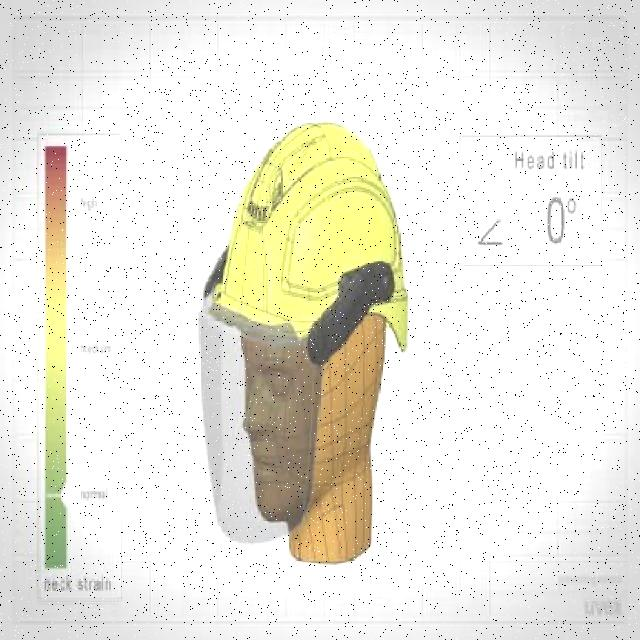Helmet: (208, 120, 409, 354)
